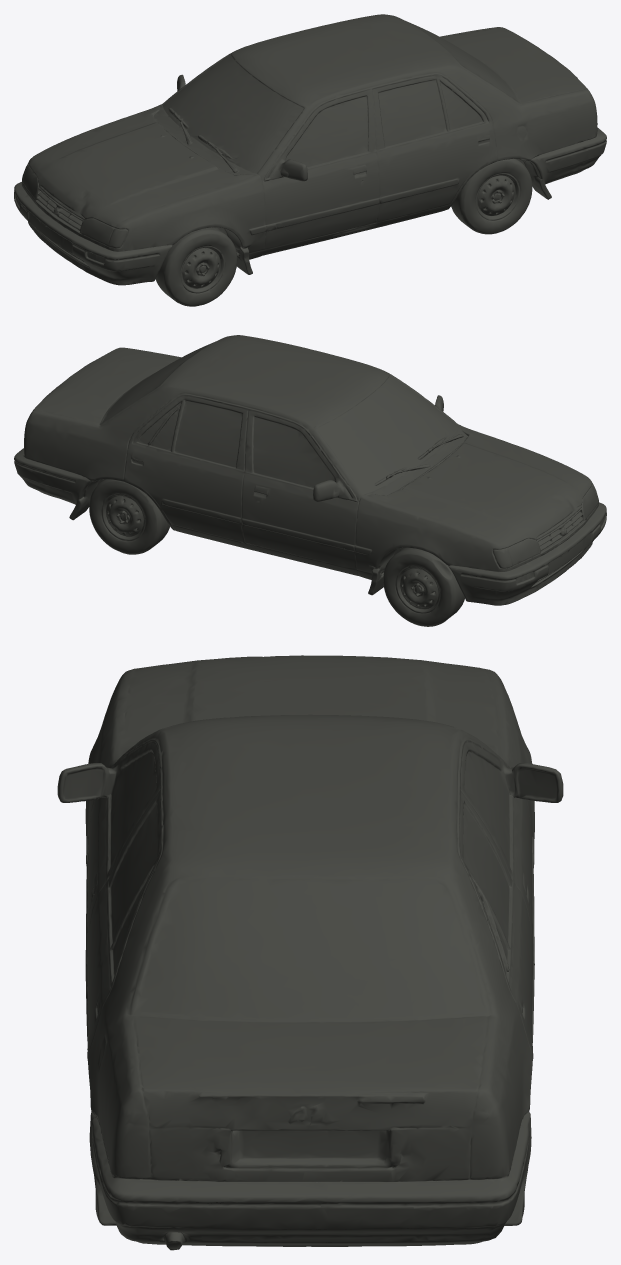
File: car_sedan_light_q0.glb
The picture shows the model from 3 angles, top to bottom: view 1: azimuth 30°, elevation 25°; view 2: azimuth 150°, elevation 25°; view 3: azimuth 270°, elevation 25°; orthographic projection. The views are drawn at different scales.
Size of the model in its own units: 1.9 by 0.5968 by 0.8109.
Materials: 1 (1 with a texture image).
